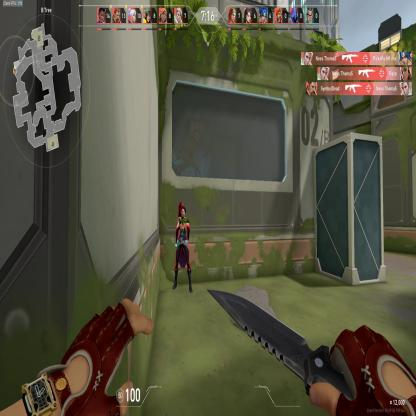enemy: (170, 198, 194, 294)
